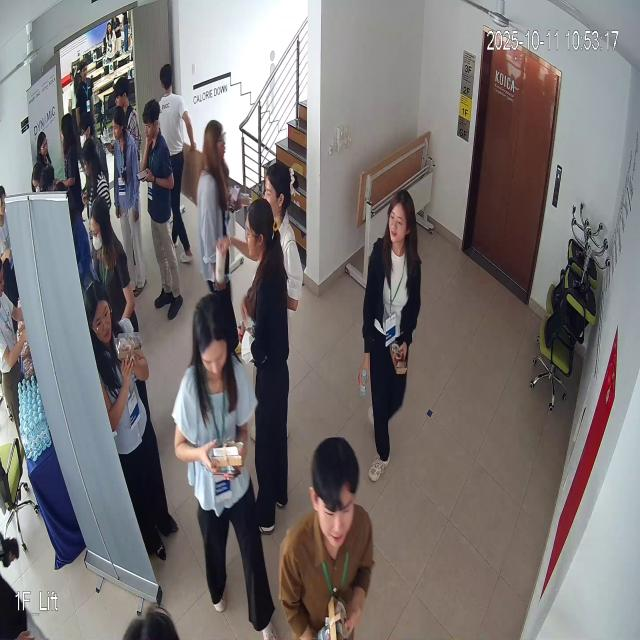face: (384, 184, 417, 256)
